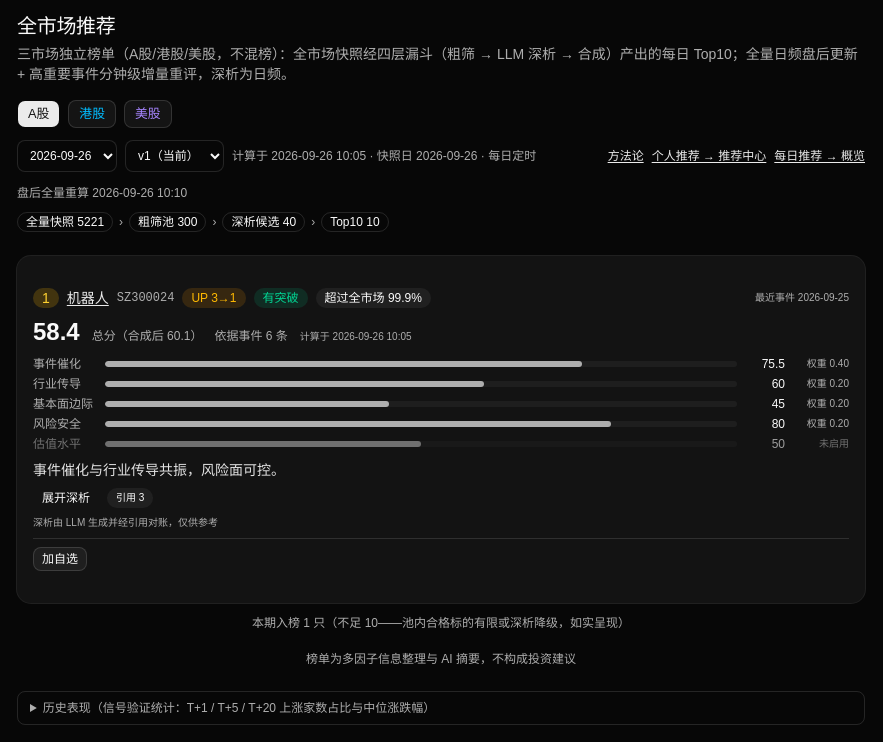
Test: MarketTop 全市场推荐页（T184，#/market-top 第 20 页） › 一键加自选：无清单自动建「默认清单」→ 加标的；成功后按钮态「已自选」并同点落 MARKET_TOP_ACT 埋点
expect the element with test id "market-top-card-SZ300024" is shown: met, box x1=17 y1=256 x2=865 y2=603
Click the button with test id "market-top-addwatch-SZ300024": (60, 559) x1=33 y1=547 x2=87 y2=571
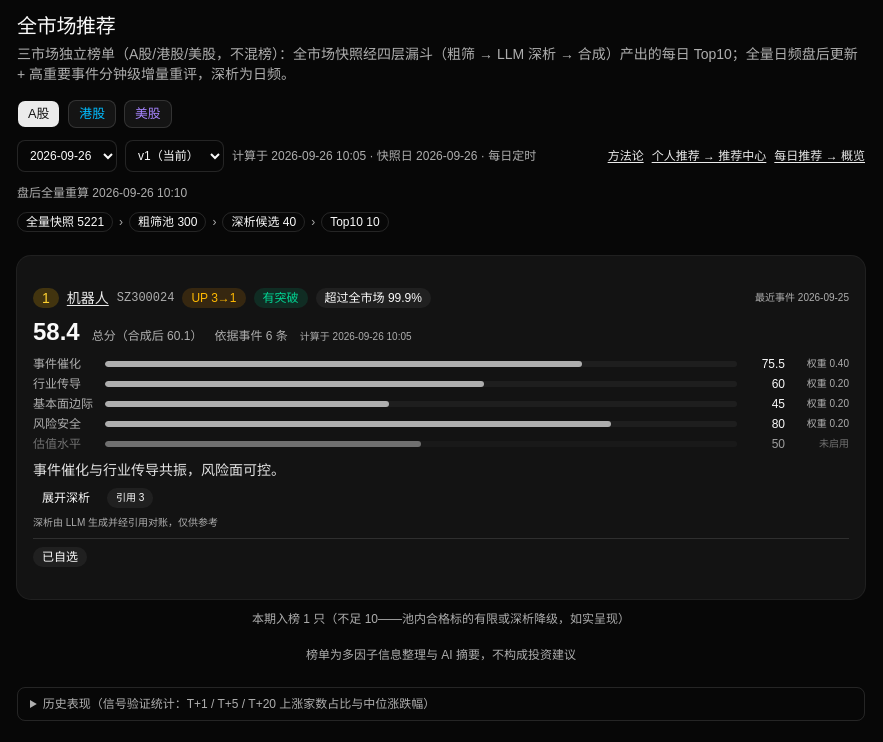
expect the icon with test id "market-top-inwatch-SZ300024" reads "已自选": met, box x1=42 y1=550 x2=78 y2=564
